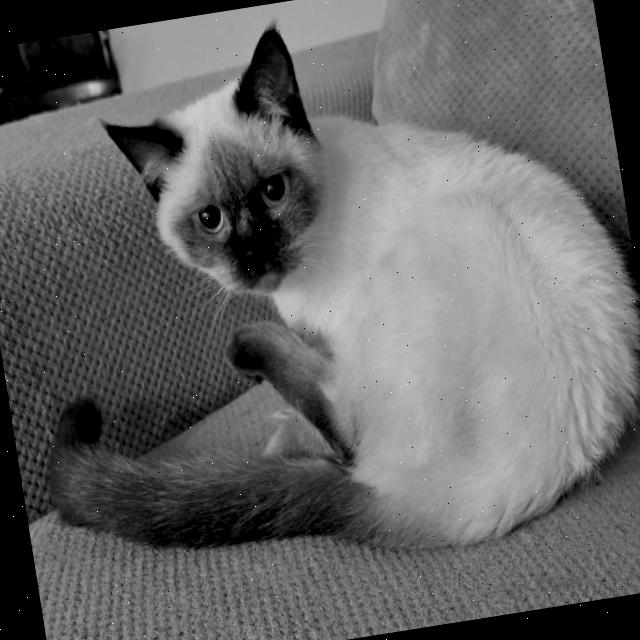siamese_cat: (80, 12, 357, 328)
